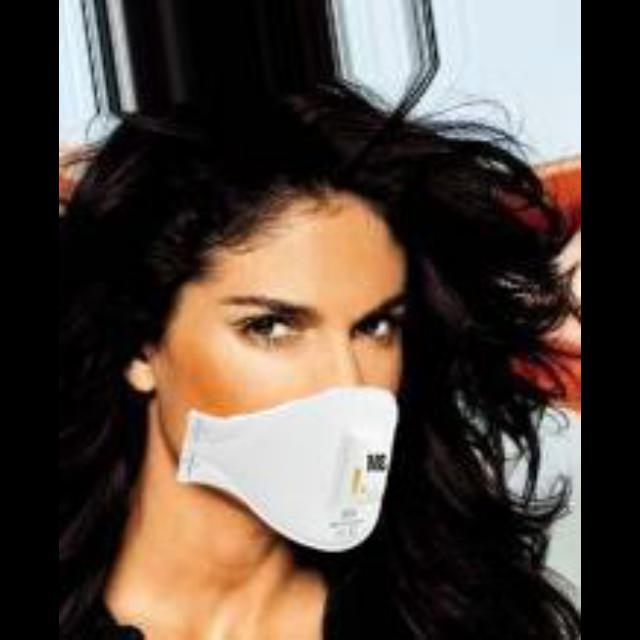suspicion: (125, 140, 409, 560)
